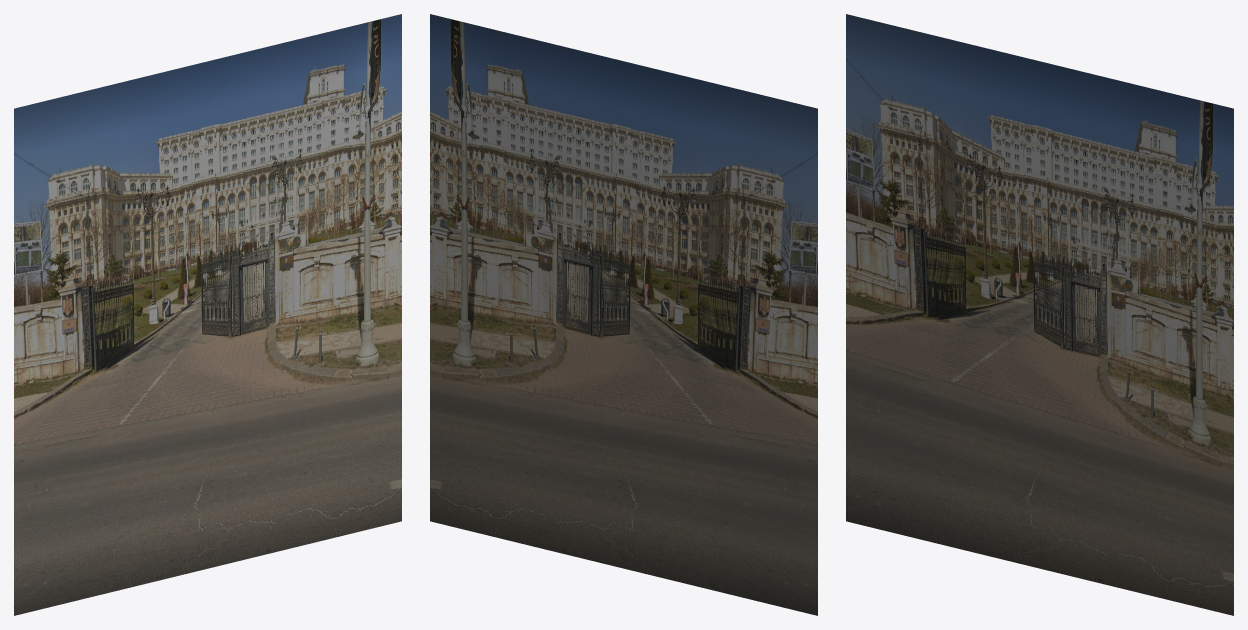
The picture shows the model from 3 angles, left to right: view 1: azimuth 30°, elevation 25°; view 2: azimuth 150°, elevation 25°; view 3: azimuth 330°, elevation 25°; orthographic projection.
Visible parts, largest first — view 1: node-0; view 2: node-0; view 3: node-0.
Boxes of the visible parts, left/top/right/bottom form: node-0: left=14, top=14, right=401, bottom=615; node-0: left=430, top=14, right=817, bottom=615; node-0: left=846, top=14, right=1233, bottom=615.
Bounding box in the file's own units: 381 × 476 × 0.
1 material, 1 textured.
